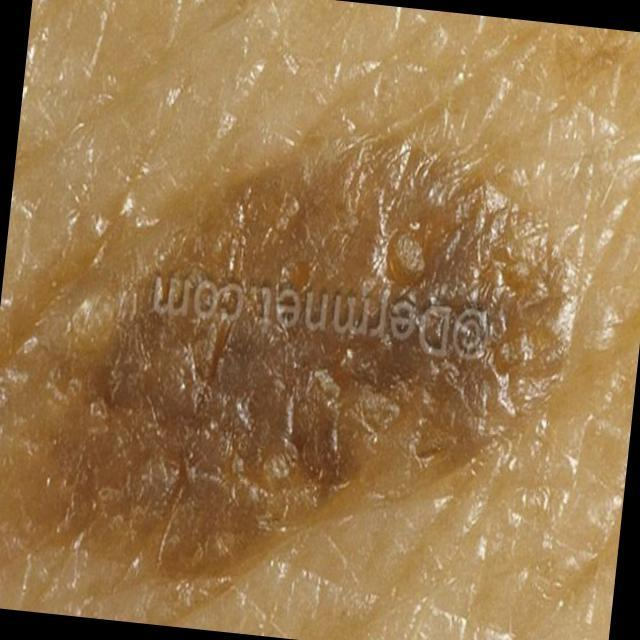Eczema: (0, 121, 550, 638)
